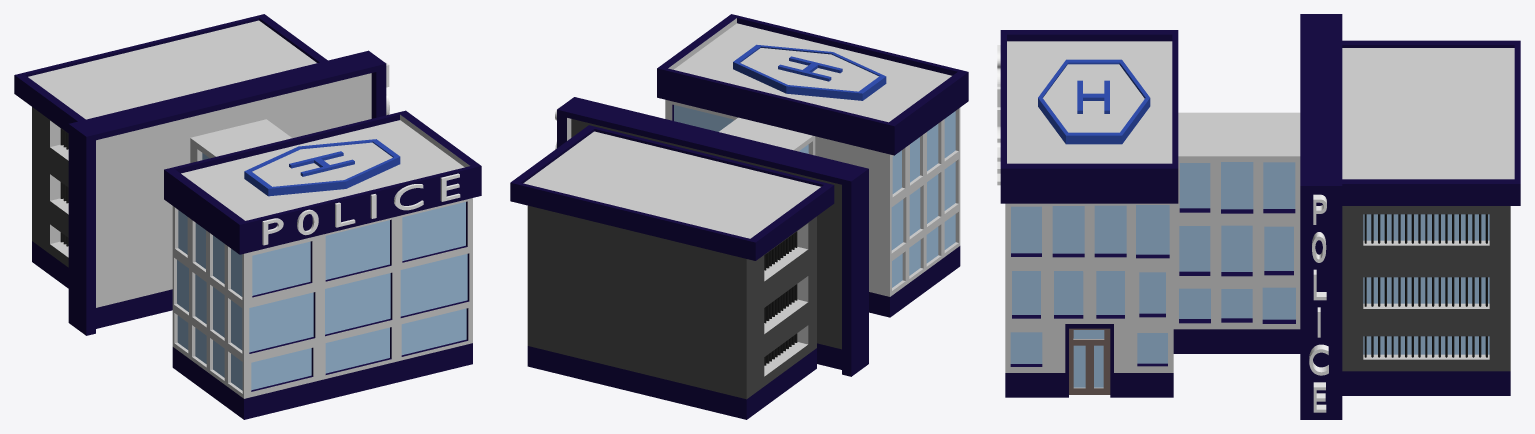
File: police.glb
3 renders of one model, left to right at view 1: azimuth 30°, elevation 25°; view 2: azimuth 150°, elevation 25°; view 3: azimuth 270°, elevation 25°, orthographic. The views are drawn at different scales.
Visible parts, largest first — view 1: Object_4; view 2: Object_4; view 3: Object_4.
Boxes of the visible parts, x1,y1,x2,y2 form: Object_4: (14, 14, 481, 419); Object_4: (510, 14, 968, 419); Object_4: (997, 14, 1520, 419).
Size of the model in its own units: 8 by 5 by 10.
1 material, 1 textured.
